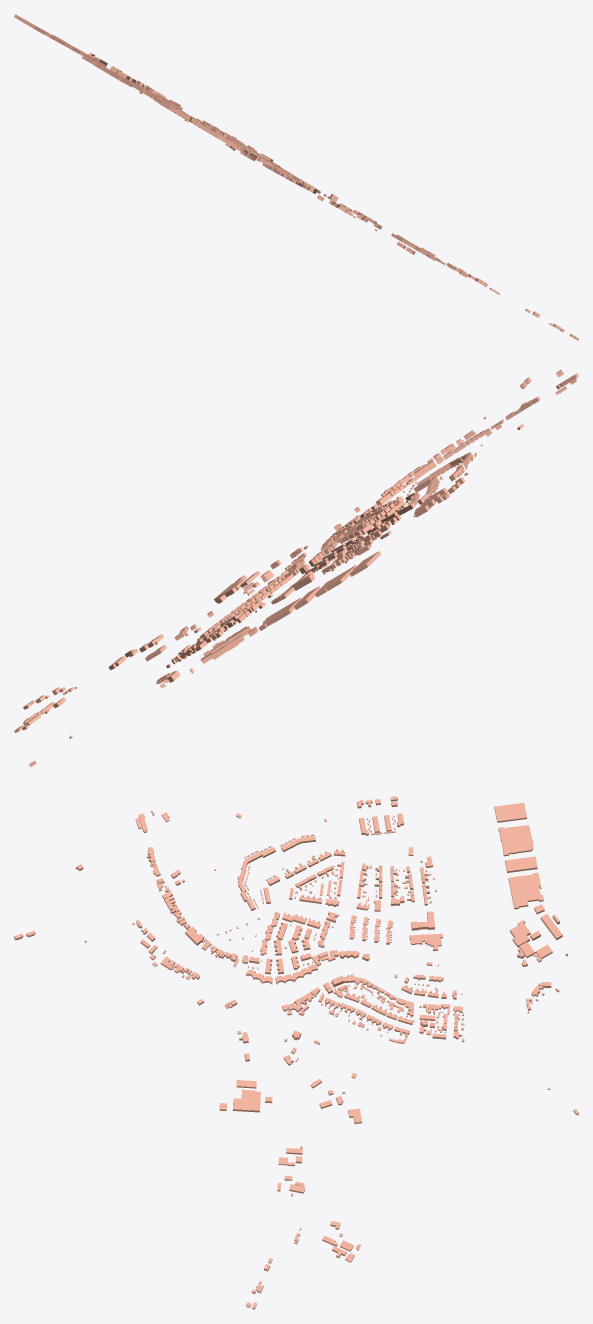
3 renders of one model, top to bottom at view 1: azimuth 30°, elevation 25°; view 2: azimuth 150°, elevation 25°; view 3: azimuth 270°, elevation 25°, orthographic. The views are drawn at different scales.
Bounding box in the file's own units: 992 × 745 × 1199.
